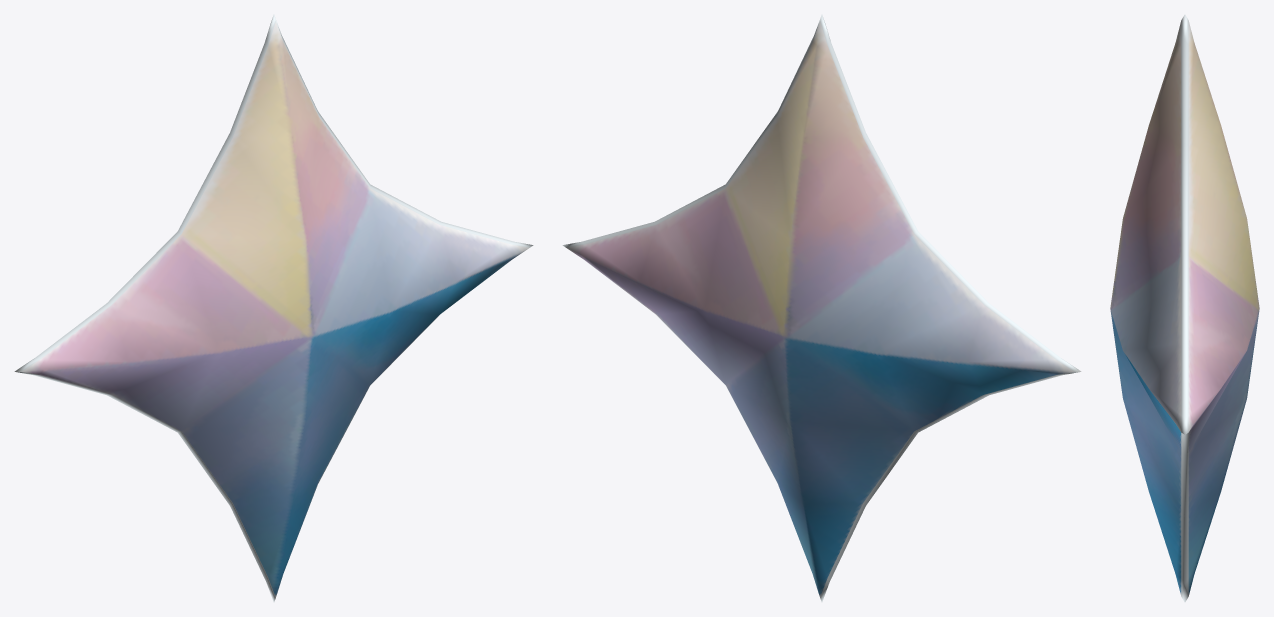
Rendered from Primogem.glb.
3 views of the same model, side by side, from view 1: azimuth 30°, elevation 25°; view 2: azimuth 150°, elevation 25°; view 3: azimuth 270°, elevation 25° (orthographic).
Parts seen in each view (by area): view 1: Item_UncarvedGem01_Vo; view 2: Item_UncarvedGem01_Vo; view 3: Item_UncarvedGem01_Vo.
Boxes of the visible parts, x1,y1,x2,y2 form: Item_UncarvedGem01_Vo: (14,14,533,602); Item_UncarvedGem01_Vo: (562,14,1081,602); Item_UncarvedGem01_Vo: (1110,14,1259,602).
Size of the model in its own units: 0.3345 by 0.3627 by 0.0834.
Materials: 1 (1 with a texture image).
